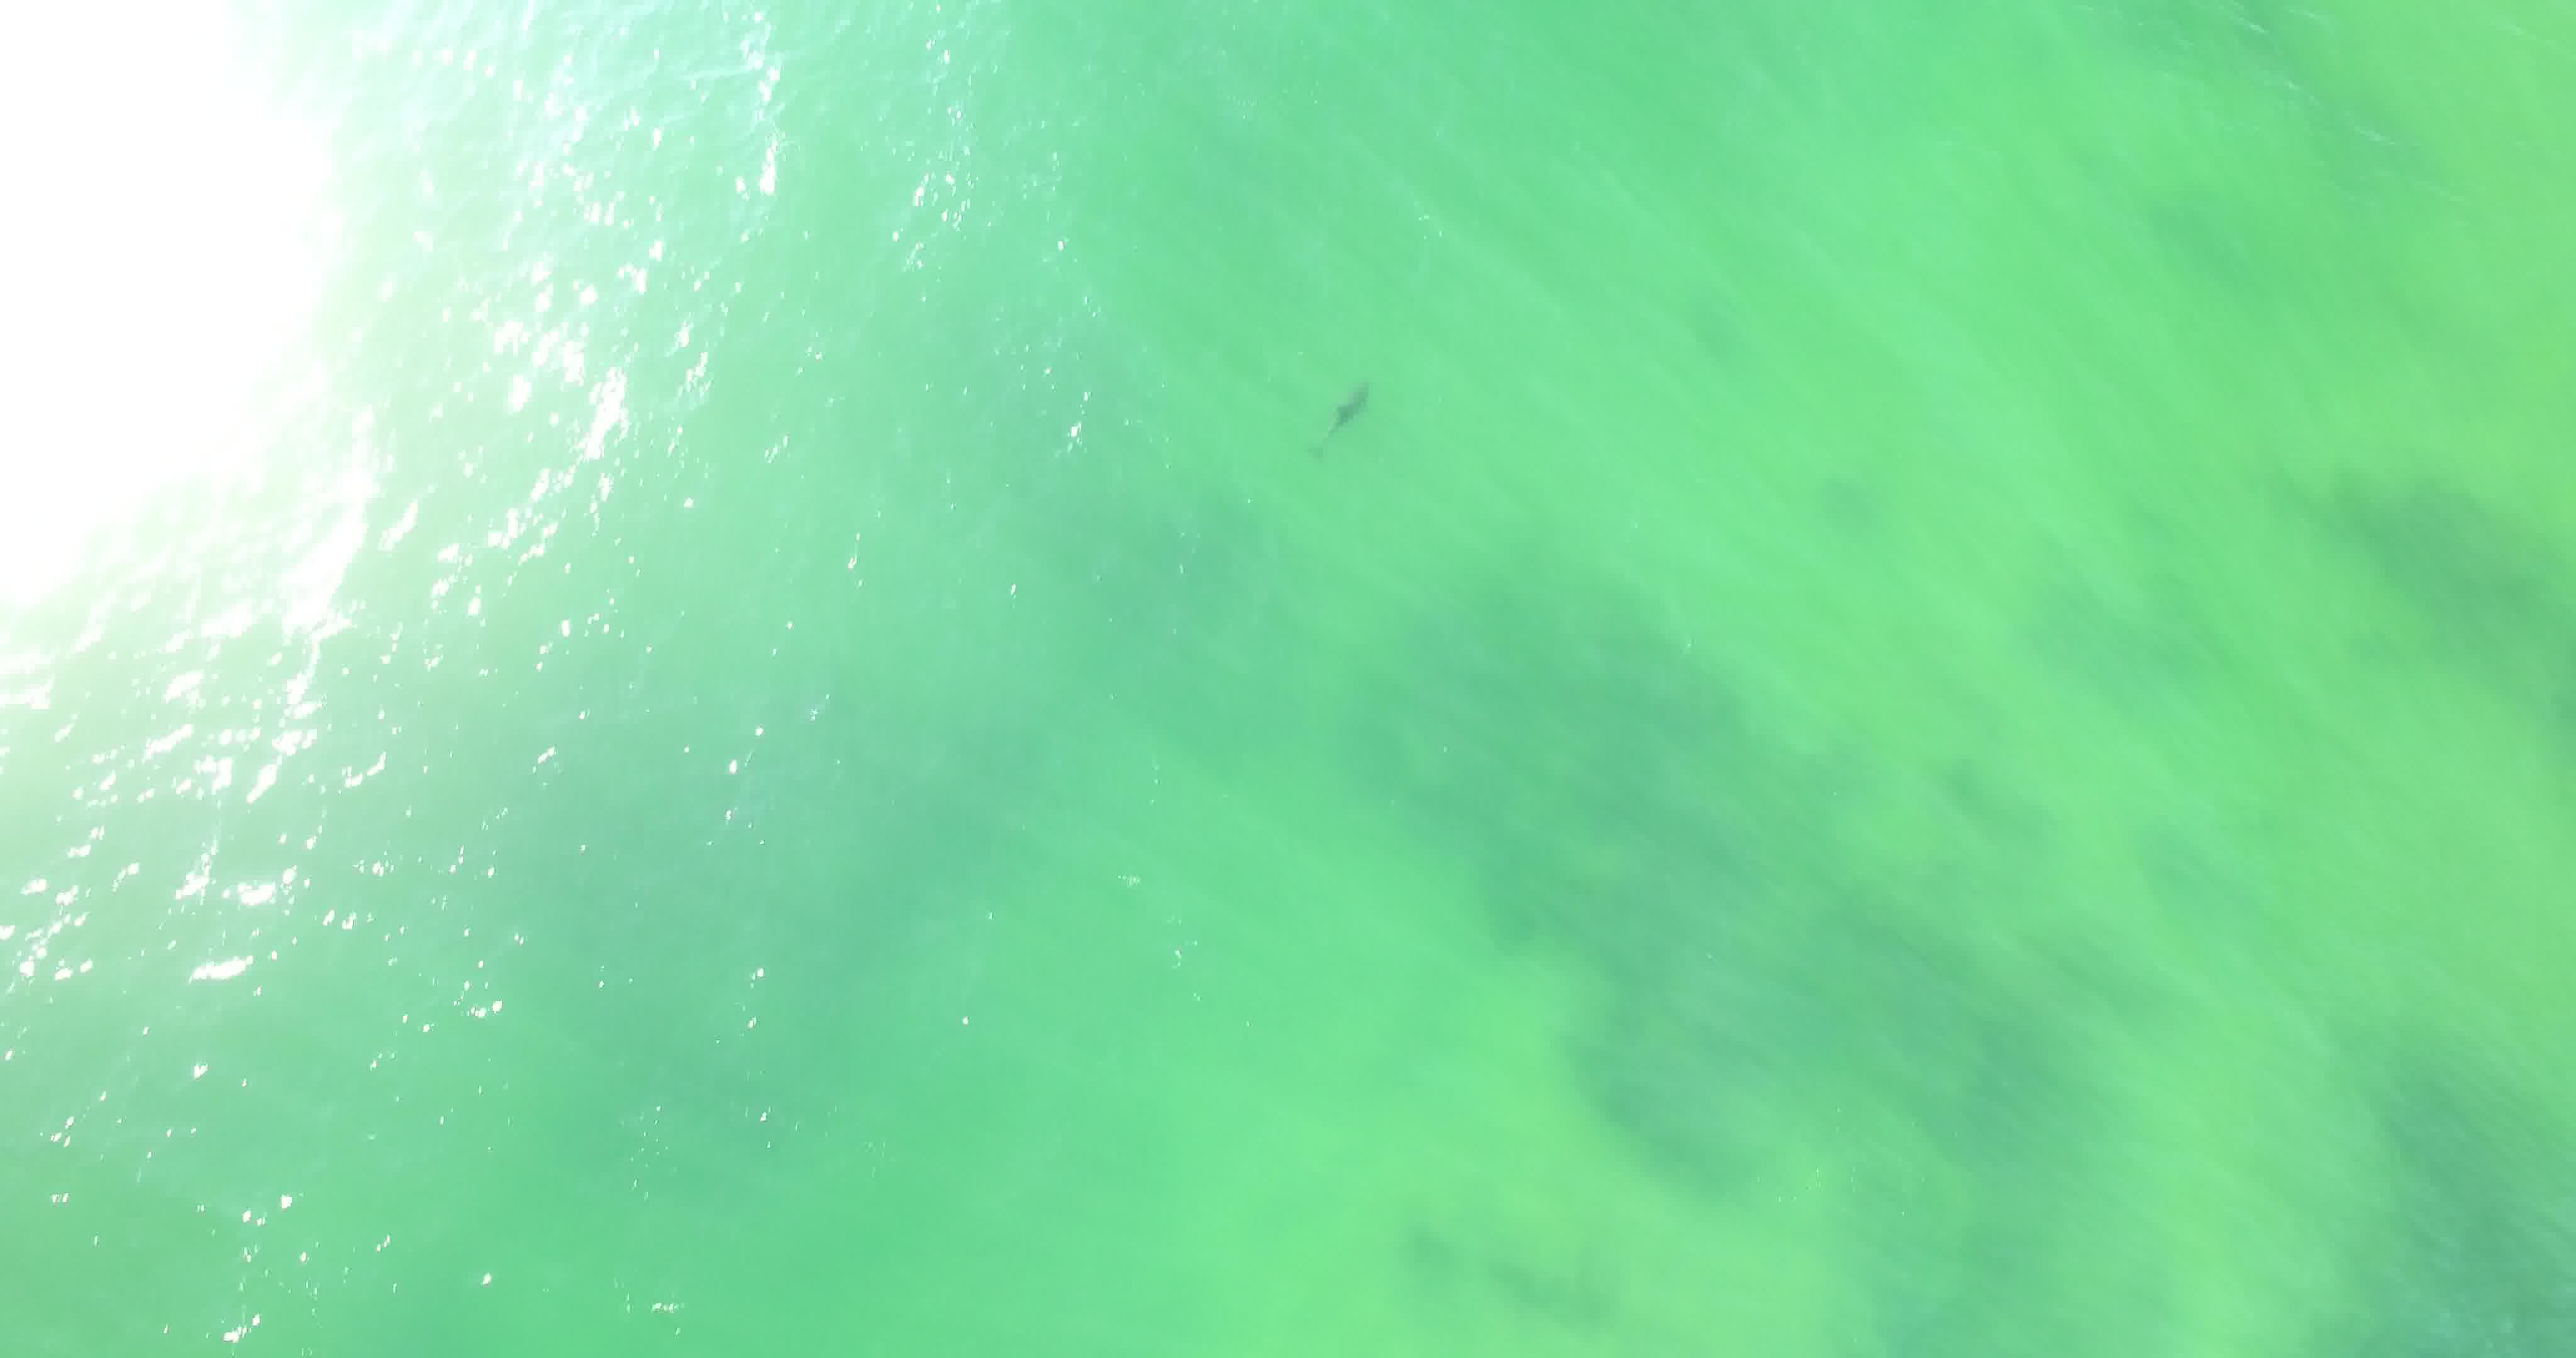dolphin: (1281, 344, 1385, 472)
